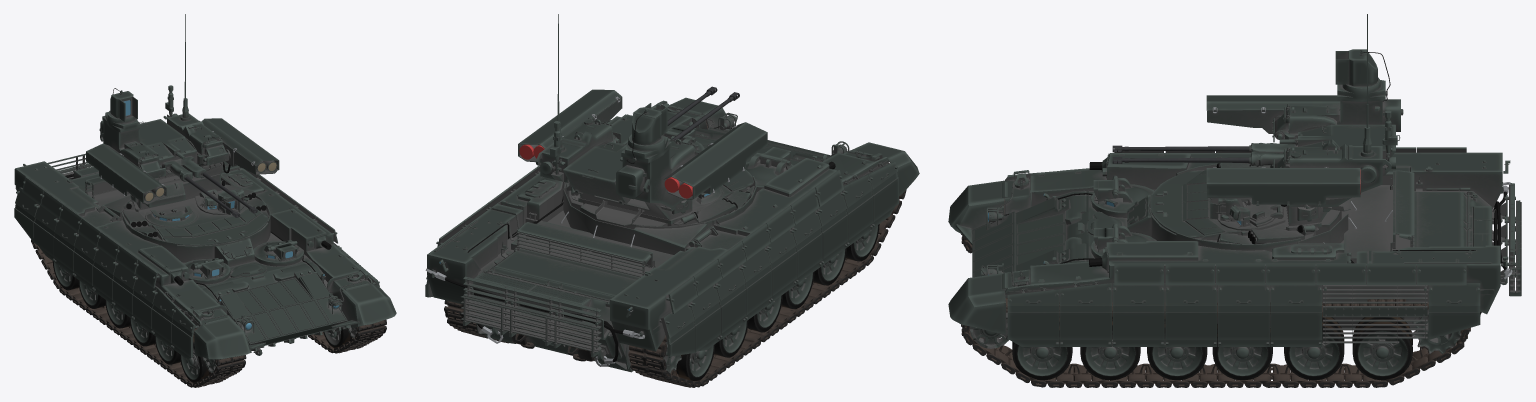
The model's file is Terminator.fbx.
The picture shows the model from 3 angles, left to right: view 1: azimuth 30°, elevation 25°; view 2: azimuth 150°, elevation 25°; view 3: azimuth 270°, elevation 25°; orthographic projection. The views are drawn at different scales.
Parts seen in each view (by area): view 1: Cube.001, Cube.041, Cube.073, Circle.042_high.001, Cube.077, Plane.046, Circle.049, Circle.046, Cube.054, Plane.033, Circle.011; view 2: Cube.001, Cube.041, Cube.073, Circle.042_high.001, Cube.077, Plane.033, Cube.054, Circle.049, Plane.046; view 3: Cube.001, Cube.041, Circle.042_high.001, Cube.073, Cube.077, Plane.033, Plane.046, Circle.046, Cube.054, Circle.049.
Boxes of the visible parts, <box> form: Cube.001: <box>14,161,396,359</box>; Cube.041: <box>14,169,379,359</box>; Cube.073: <box>99,14,230,208</box>; Circle.042_high.001: <box>31,239,386,387</box>; Cube.077: <box>86,118,279,204</box>; Plane.046: <box>162,150,257,217</box>; Circle.049: <box>123,180,268,240</box>; Circle.046: <box>195,189,249,214</box>; Cube.054: <box>110,88,137,121</box>; Plane.033: <box>47,153,92,178</box>; Circle.011: <box>169,233,331,285</box>; Cube.001: <box>425,97,919,372</box>; Cube.041: <box>425,104,898,356</box>; Cube.073: <box>536,14,698,225</box>; Circle.042_high.001: <box>444,121,906,387</box>; Cube.077: <box>518,89,767,199</box>; Plane.033: <box>460,276,610,357</box>; Cube.054: <box>626,103,667,163</box>; Circle.049: <box>566,183,754,225</box>; Plane.046: <box>667,86,739,140</box>; Cube.001: <box>948,152,1512,334</box>; Cube.041: <box>972,147,1480,346</box>; Circle.042_high.001: <box>961,198,1470,387</box>; Cube.073: <box>1270,14,1403,225</box>; Cube.077: <box>1206,95,1360,205</box>; Plane.033: <box>1323,183,1521,343</box>; Plane.046: <box>1112,137,1297,166</box>; Circle.046: <box>1210,198,1285,230</box>; Cube.054: <box>1335,49,1390,101</box>; Circle.049: <box>1194,162,1318,244</box>.
Size of the model in its own units: 368 by 473 by 717.
4 materials, 4 textured.
